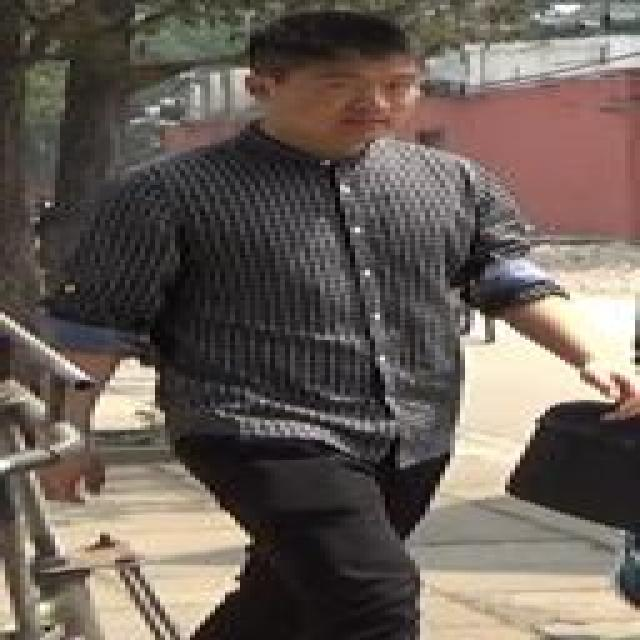adult: (32, 12, 610, 640)
